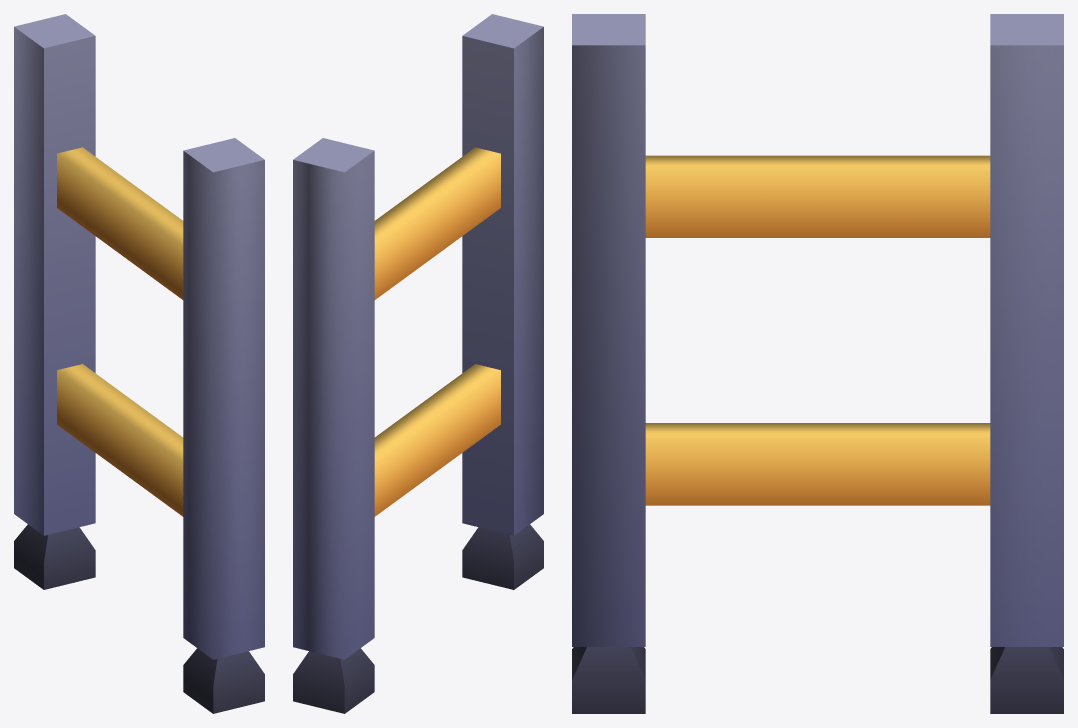
Rendered from structure-yellow-high.glb.
3 renders of one model, left to right at view 1: azimuth 30°, elevation 25°; view 2: azimuth 150°, elevation 25°; view 3: azimuth 270°, elevation 25°, orthographic. The views are drawn at different scales.
Parts seen in each view (by area): view 1: structure-yellow-high; view 2: structure-yellow-high; view 3: structure-yellow-high.
Part boxes in pixels (x1,y1,x2,y2): structure-yellow-high: (14, 14, 264, 713); structure-yellow-high: (293, 14, 543, 713); structure-yellow-high: (572, 14, 1063, 713).
Size of the model in its own units: 0.15 by 1.5 by 1.
